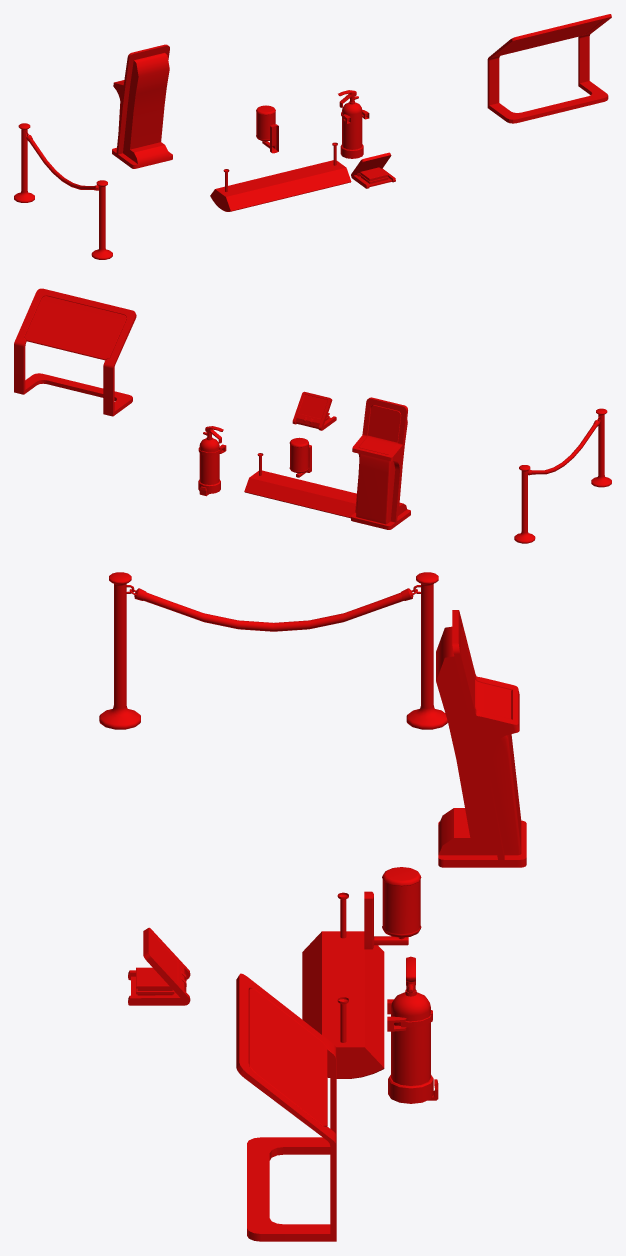
File: Atlas4.fbx
The picture shows the model from 3 angles, top to bottom: view 1: azimuth 30°, elevation 25°; view 2: azimuth 150°, elevation 25°; view 3: azimuth 270°, elevation 25°; orthographic projection. The views are drawn at different scales.
Visible parts, largest first — view 1: PanelPc2, PanelPc3, Lamba1, Engel, YanginTup, PanelPc1, Lamba2; view 2: PanelPc3, PanelPc2, Lamba1, Engel, YanginTup, PanelPc1, Lamba2; view 3: PanelPc3, PanelPc2, Lamba1, Engel, YanginTup, Lamba2, PanelPc1.
Part boxes in pixels (<box>): PanelPc2: <box>112,44,172,168</box>; PanelPc3: <box>487,14,611,123</box>; Lamba1: <box>210,142,351,211</box>; Engel: <box>14,123,112,259</box>; YanginTup: <box>338,90,369,158</box>; PanelPc1: <box>351,152,395,188</box>; Lamba2: <box>256,105,278,153</box>; PanelPc3: <box>14,288,136,416</box>; PanelPc2: <box>351,397,410,529</box>; Lamba1: <box>244,453,356,518</box>; Engel: <box>514,408,611,543</box>; YanginTup: <box>198,426,226,496</box>; PanelPc1: <box>292,391,336,430</box>; Lamba2: <box>289,437,311,477</box>; PanelPc3: <box>236,973,336,1241</box>; PanelPc2: <box>436,610,526,867</box>; Lamba1: <box>302,892,384,1078</box>; Engel: <box>99,572,447,729</box>; YanginTup: <box>387,956,438,1103</box>; Lamba2: <box>364,867,421,949</box>; PanelPc1: <box>128,927,190,1005</box>.
Bounding box in the file's own units: 763 × 199 × 260.
